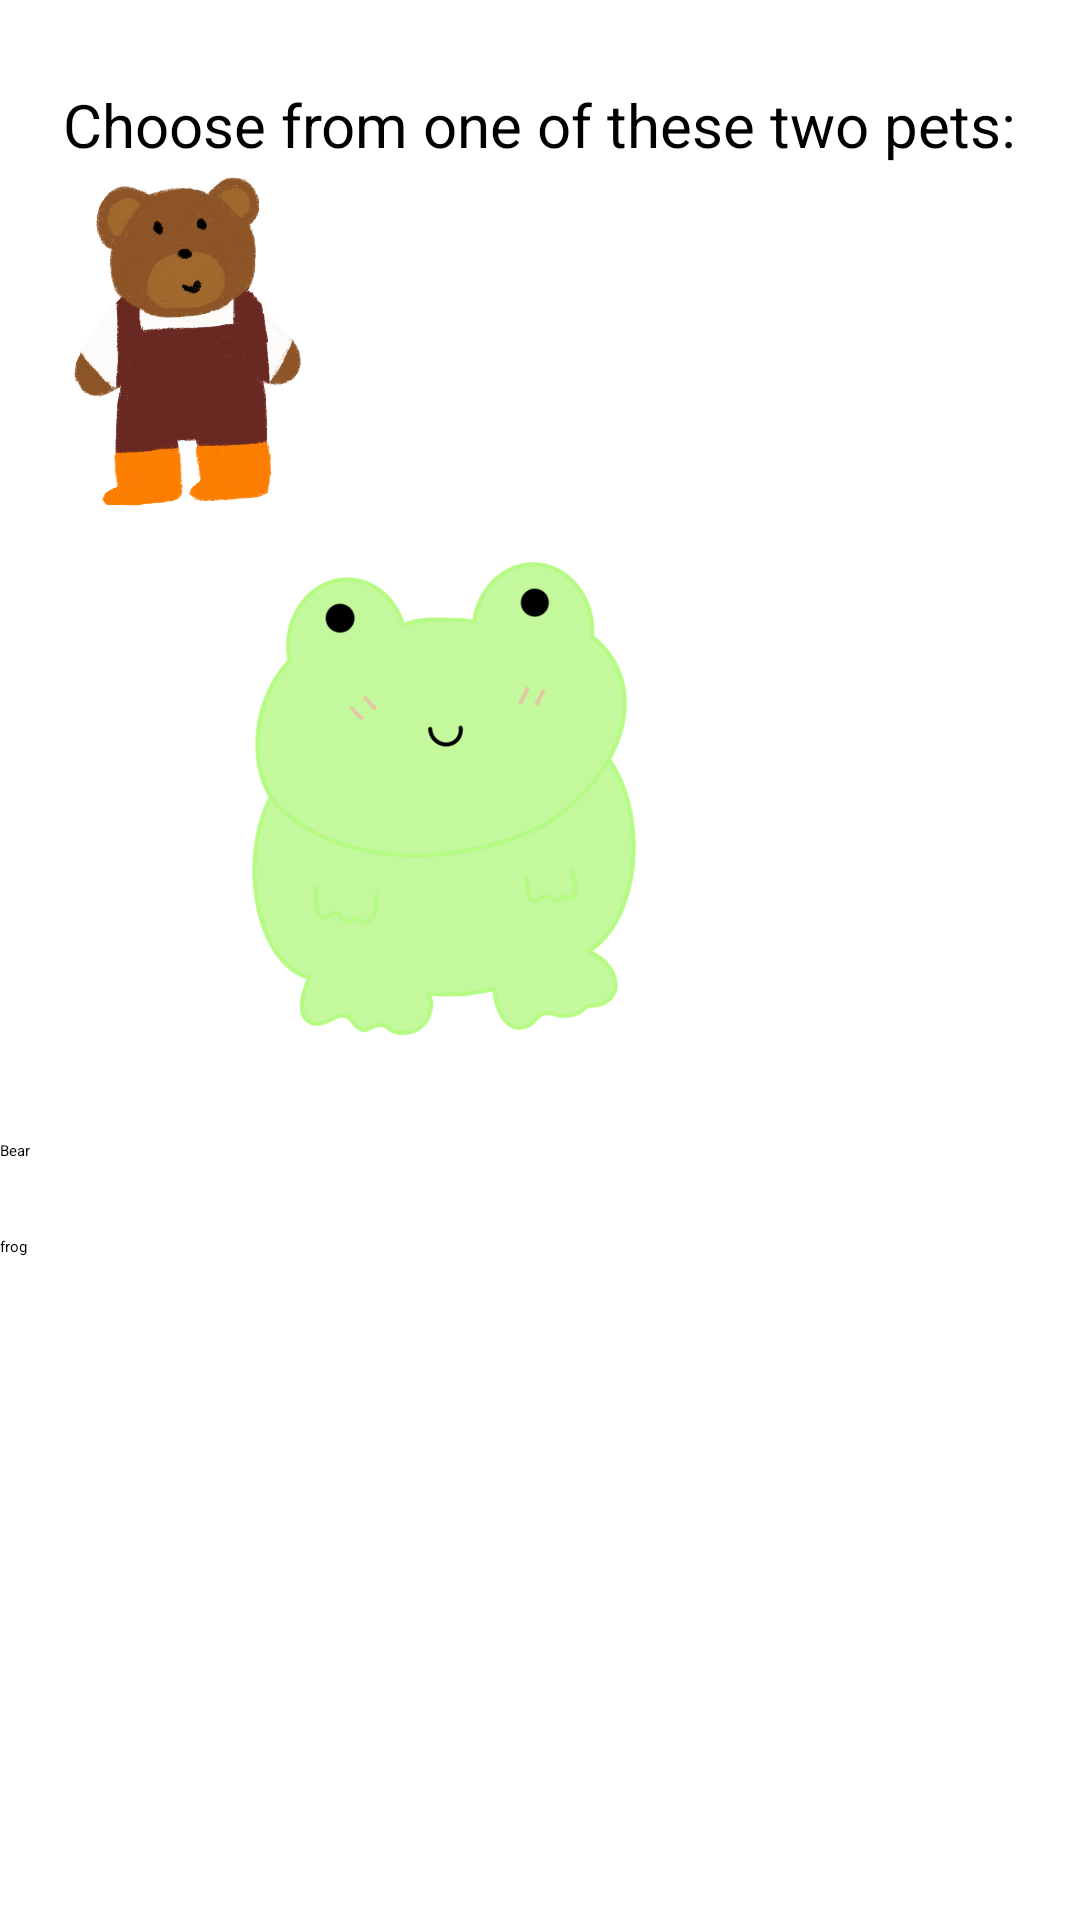

Screen size 1080px×1920px. Icon name, then its center in pixels as (x=x, y=y):
bear: (x=187, y=341)
